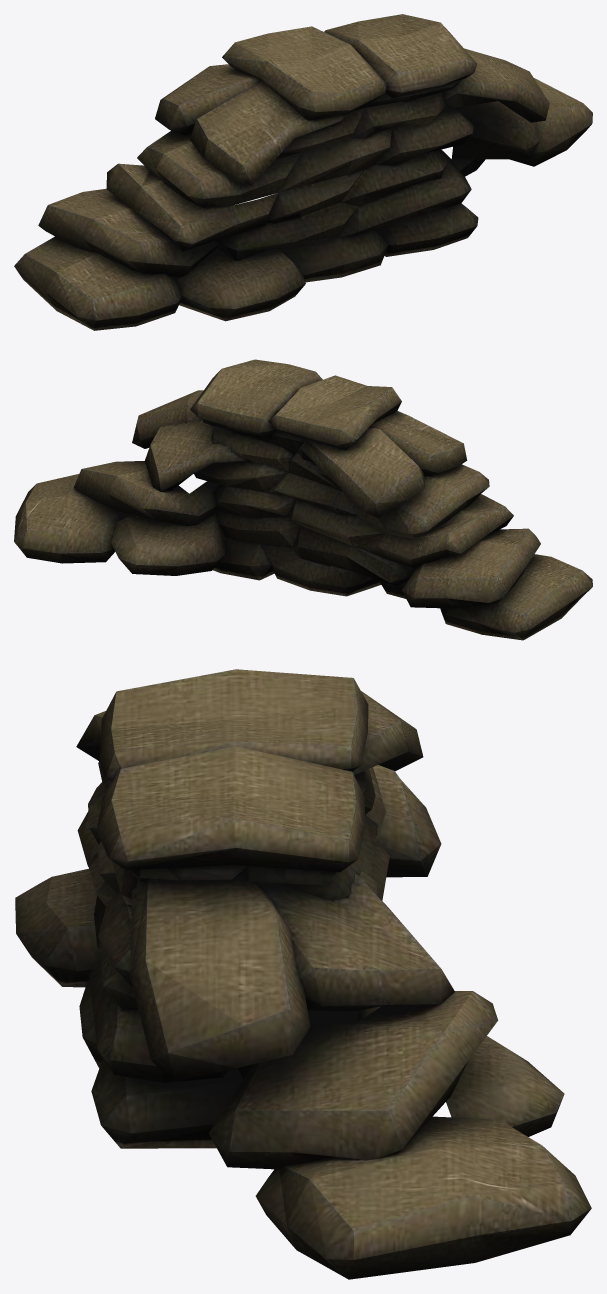
Rendered from wall.glb.
3 views of the same model, one above another, from view 1: azimuth 30°, elevation 25°; view 2: azimuth 150°, elevation 25°; view 3: azimuth 270°, elevation 25° (orthographic). The views are drawn at different scales.
Visible parts, largest first — view 1: Object.1; view 2: Object.1; view 3: Object.1.
Boxes of the visible parts, box(x1,y1,x2,y2) form: Object.1: box(14, 14, 592, 330); Object.1: box(14, 359, 592, 640); Object.1: box(15, 669, 591, 1279).
Bounding box in the file's own units: 26.57 × 8.48 × 13.01.
Materials: 1 (1 with a texture image).
